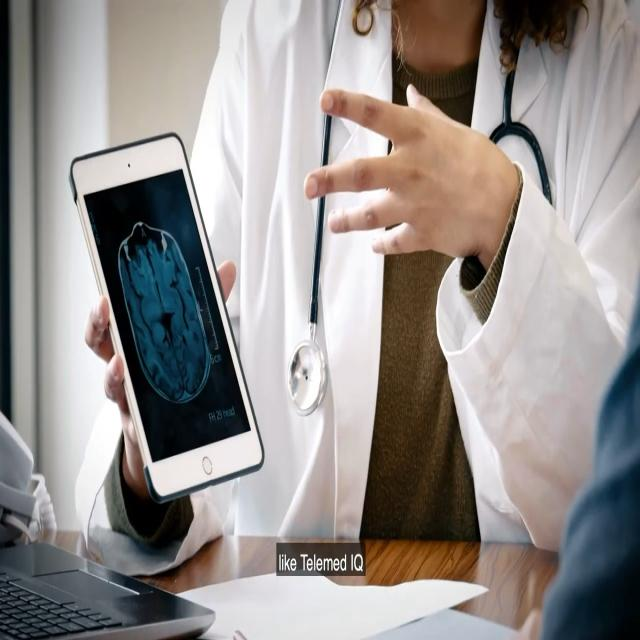Doctor: (217, 0, 640, 386)
